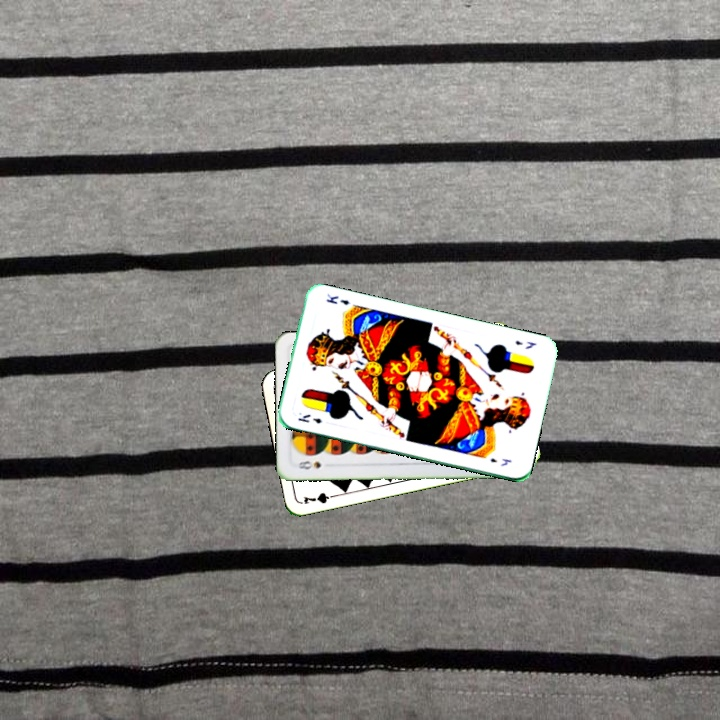EK: (294, 410, 324, 426), (511, 336, 539, 351)
G7: (299, 488, 340, 507)
S8: (294, 457, 324, 472)
